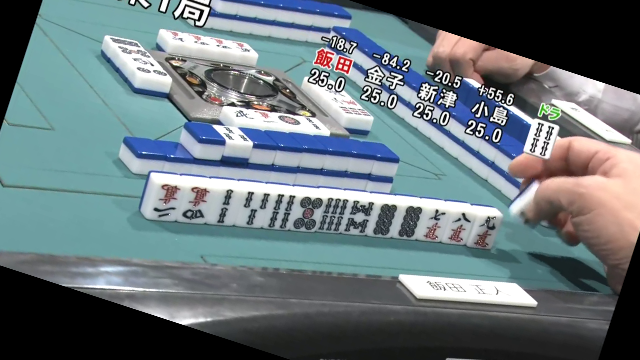Tehai: (135, 165, 506, 260), (141, 162, 502, 258)
